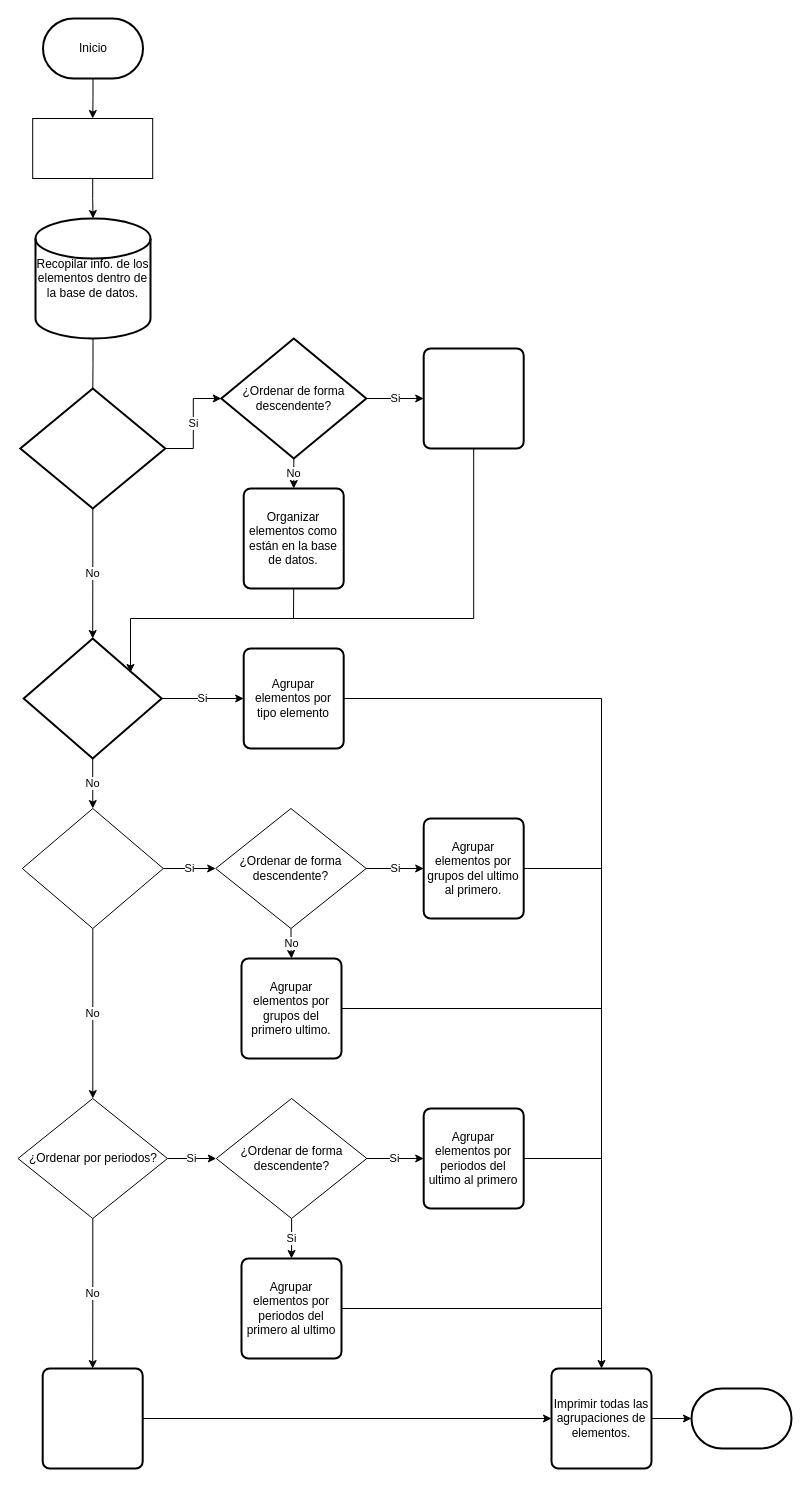
Some shapes in this 809 by 1486 pixel diagram are drawn without their labels. Here are the shapes that lost their labels. From the top down, the centre of each, then its label:
At (92,148): "Ordenar los elementos de la tabla periodica".
At (473,398): "Organizar elementos por numero atómico del mayor al menor.".
At (92,448): "¿Ordenar por numero atómico?".
At (92,698): "¿Ordenar por tipo de elemento?".
At (92,868): "¿Ordenar por grupos?".
At (92,1418): "Imprimir elementos de la base de datos sin realizar cambios.".
At (741,1418): "Fin".
